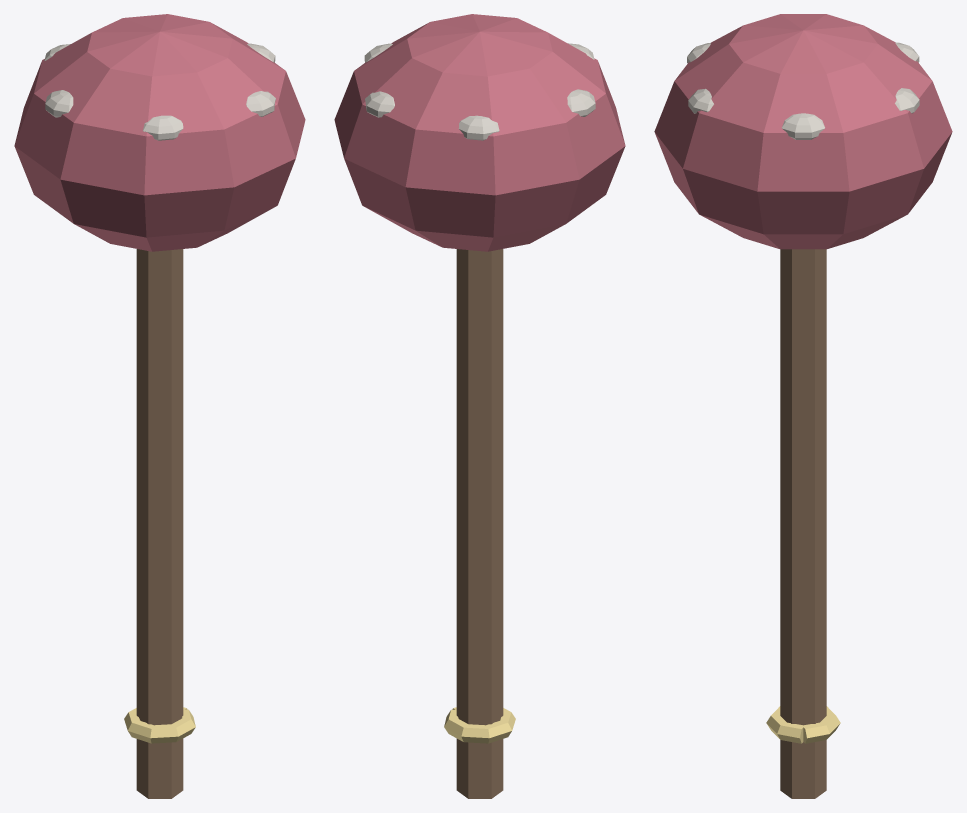
Rendered from MushroomMace.fbx.
The picture shows the model from 3 angles, left to right: view 1: azimuth 30°, elevation 25°; view 2: azimuth 150°, elevation 25°; view 3: azimuth 270°, elevation 25°; orthographic projection.
Parts seen in each view (by area): view 1: Prop_MushroomMace; view 2: Prop_MushroomMace; view 3: Prop_MushroomMace.
Part boxes in pixels (x1,y1,x2,y2): Prop_MushroomMace: (14, 14, 305, 798); Prop_MushroomMace: (334, 14, 625, 798); Prop_MushroomMace: (654, 14, 952, 798).
Bounding box in the file's own units: 0.3043 × 0.9 × 0.32.
